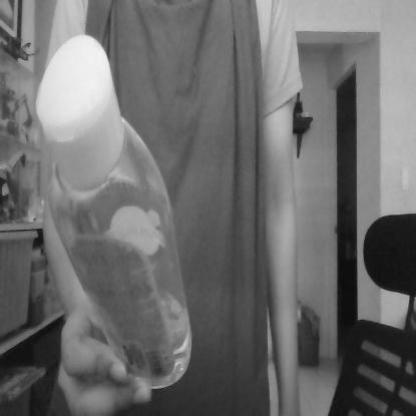Plastic Bottle: (31, 38, 197, 390)
